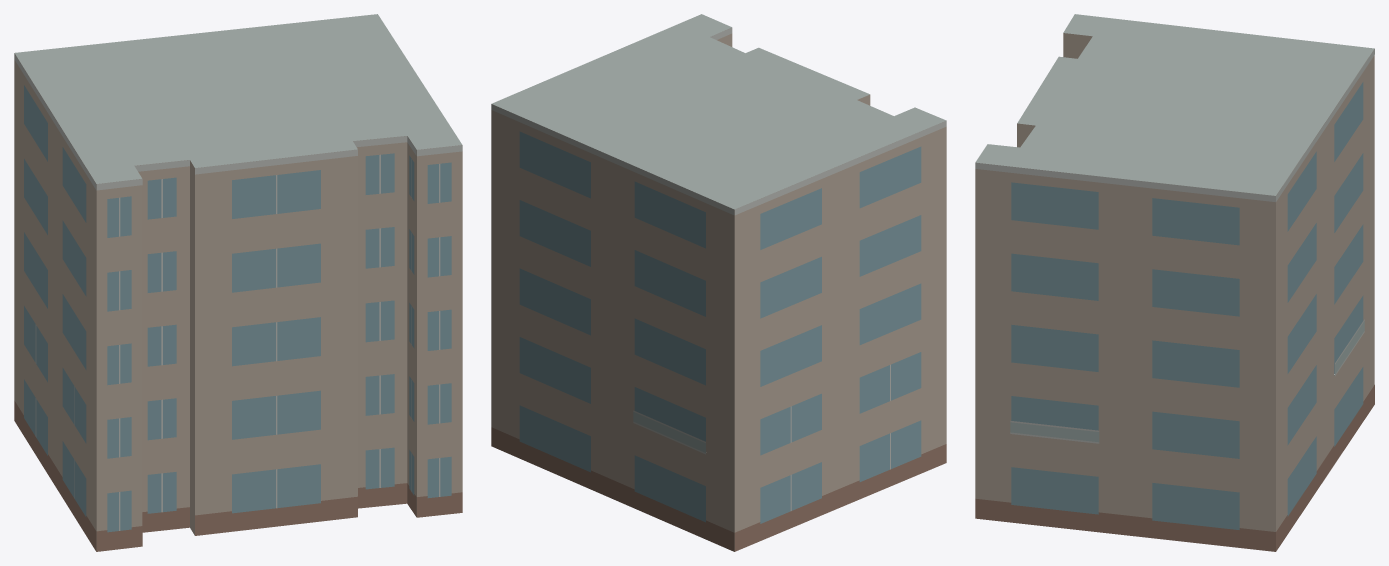
The model's file is survey-upis-32708877.glb.
3 views of the same model, side by side, from view 1: azimuth 30°, elevation 25°; view 2: azimuth 150°, elevation 25°; view 3: azimuth 270°, elevation 25° (orthographic). The views are drawn at different scales.
Visible parts, largest first — view 1: survey-upis-32708877.tmp; view 2: survey-upis-32708877.tmp; view 3: survey-upis-32708877.tmp.
Boxes of the visible parts, x1,y1,x2,y2 form: survey-upis-32708877.tmp: (14,14,462,551); survey-upis-32708877.tmp: (491,14,946,551); survey-upis-32708877.tmp: (975,14,1374,551).
Size of the model in its own units: 15.25 by 13.9 by 14.15.
